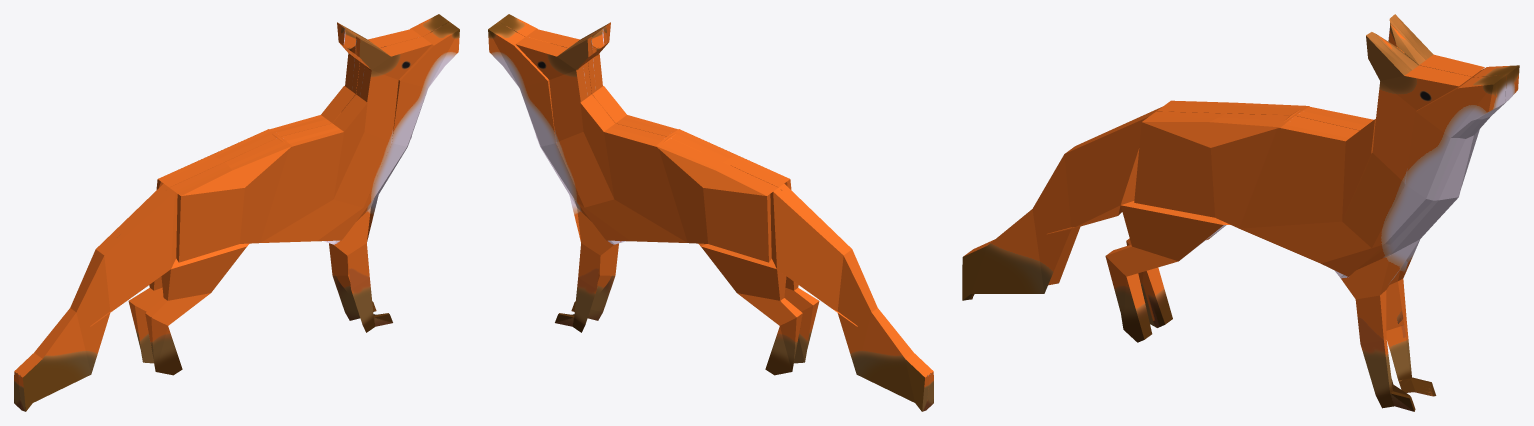
Rendered from fox.obj.
3 renders of one model, left to right at view 1: azimuth 30°, elevation 25°; view 2: azimuth 150°, elevation 25°; view 3: azimuth 330°, elevation 25°, orthographic. The views are drawn at different scales.
Visible parts, largest first — view 1: Plane.001; view 2: Plane.001; view 3: Plane.001.
Part boxes in pixels (x1=…): Plane.001: x1=14, y1=14, x2=459, y2=411; Plane.001: x1=488, y1=14, x2=933, y2=411; Plane.001: x1=962, y1=14, x2=1519, y2=411.
Bounding box in the file's own units: 6.71 × 4.46 × 0.8676.
1 material, 1 textured.
